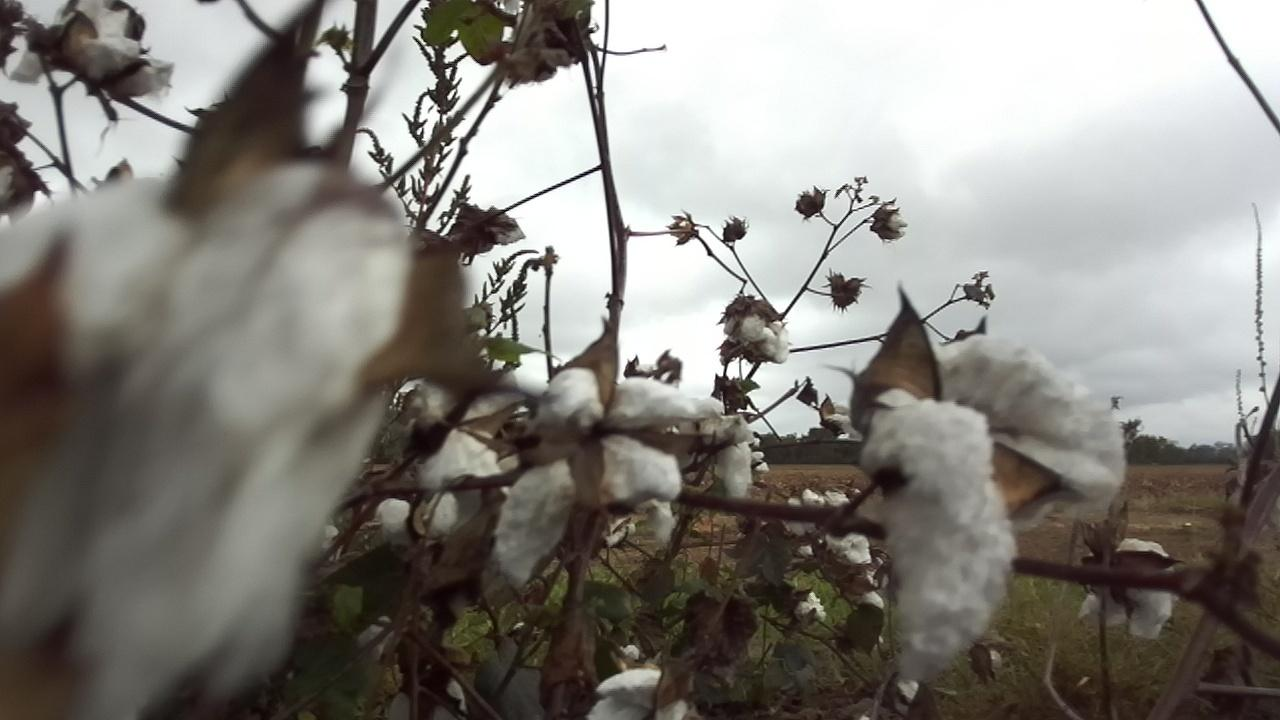cotton_ready: (0, 157, 419, 720), (865, 335, 1128, 676), (495, 364, 722, 590), (374, 401, 515, 557), (11, 0, 175, 99), (1078, 534, 1175, 638), (585, 668, 688, 720), (713, 403, 757, 504), (724, 311, 790, 367)
